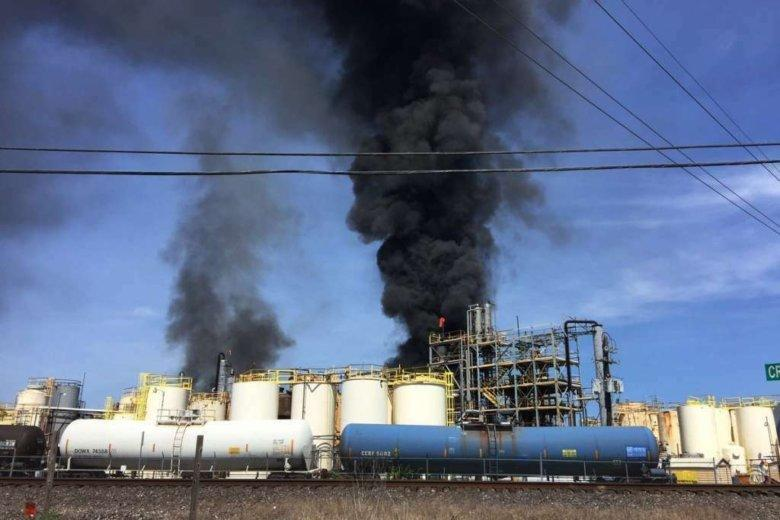Fire: (436, 312, 450, 332)
